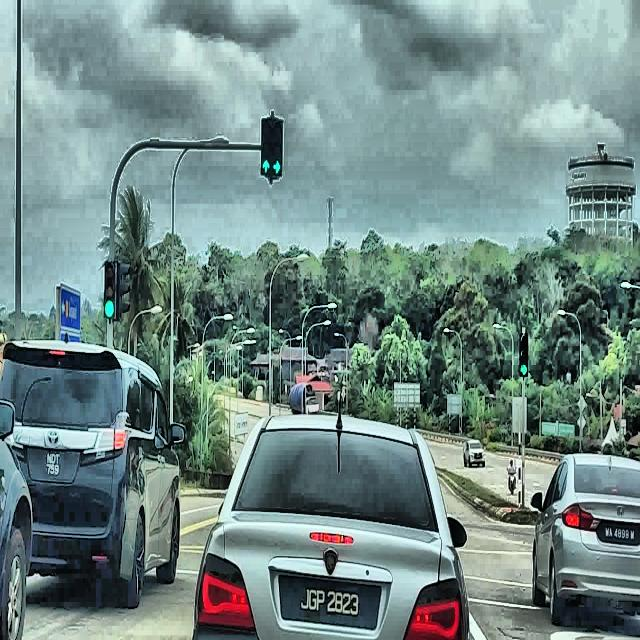green: (260, 116, 274, 178), (104, 260, 116, 320), (272, 119, 283, 179), (519, 332, 529, 376)
